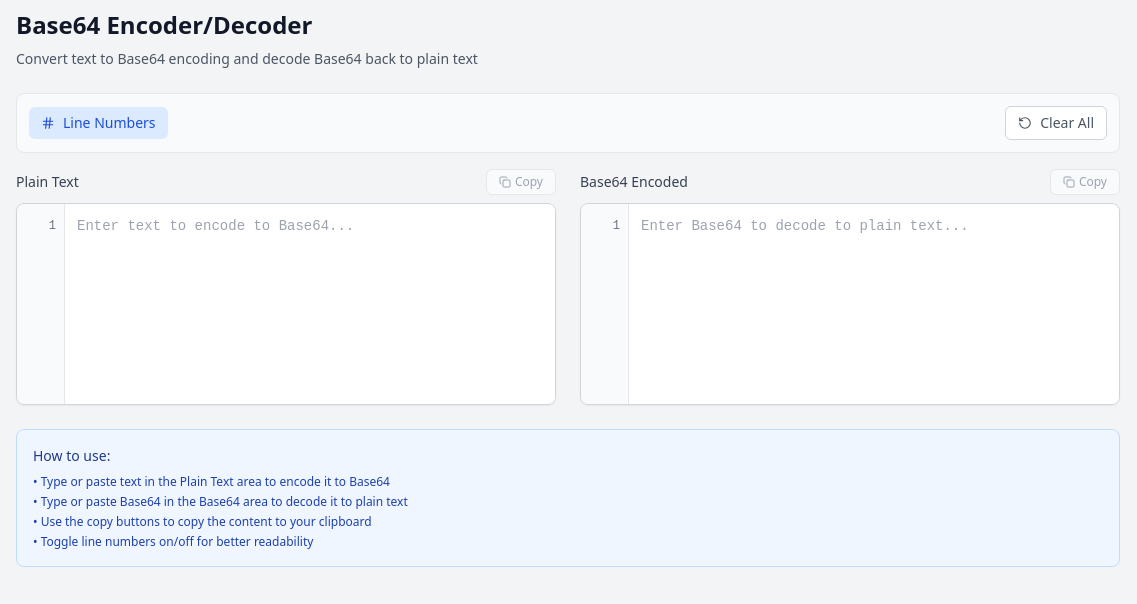
Base64SideBySide › clears both fields and errors when Clear All is clicked
In the text box labelled "Plain Text": point(310, 304) [65,204,555,404], type "hello"
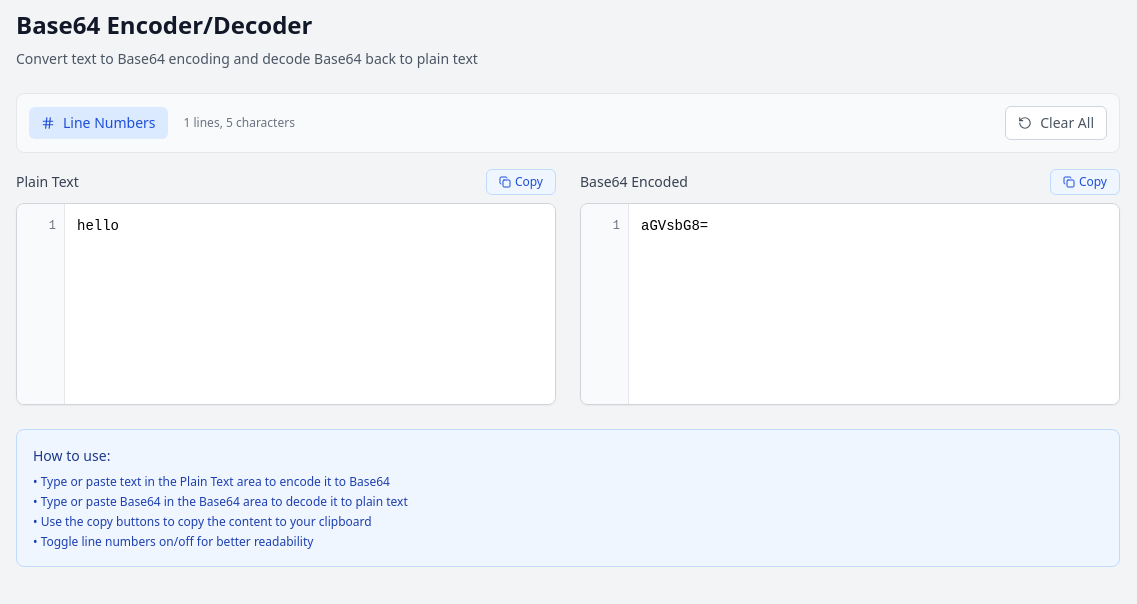
Replace the text in the text box labelled "Base64 Encoded" with "!!!": point(874, 304) [629,204,1119,404]
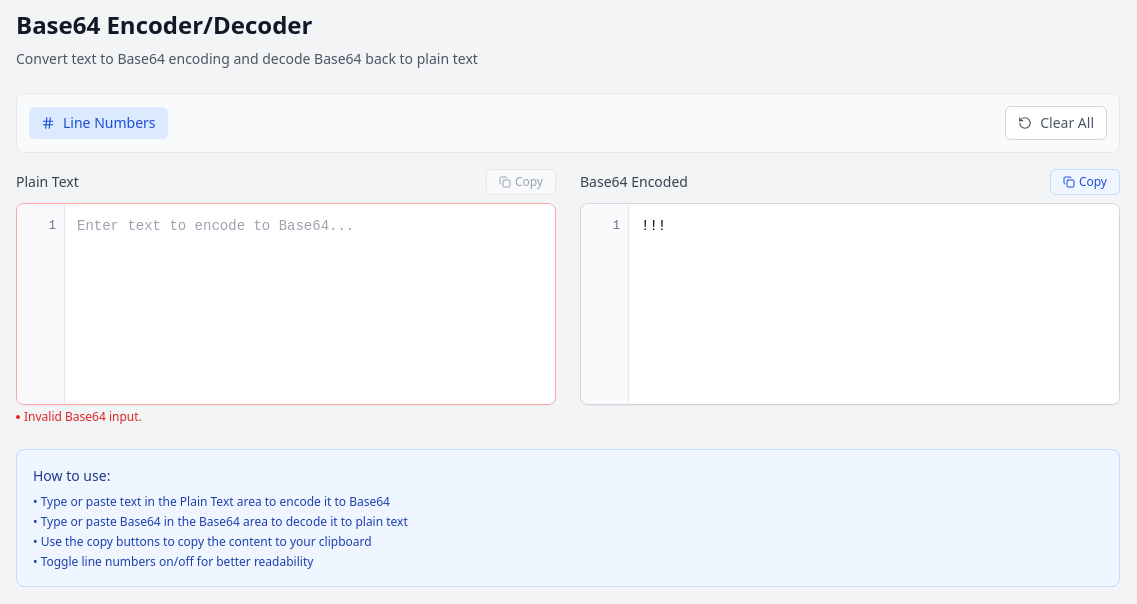
Click the button "Clear All": point(1056, 123) [1005,106,1107,140]
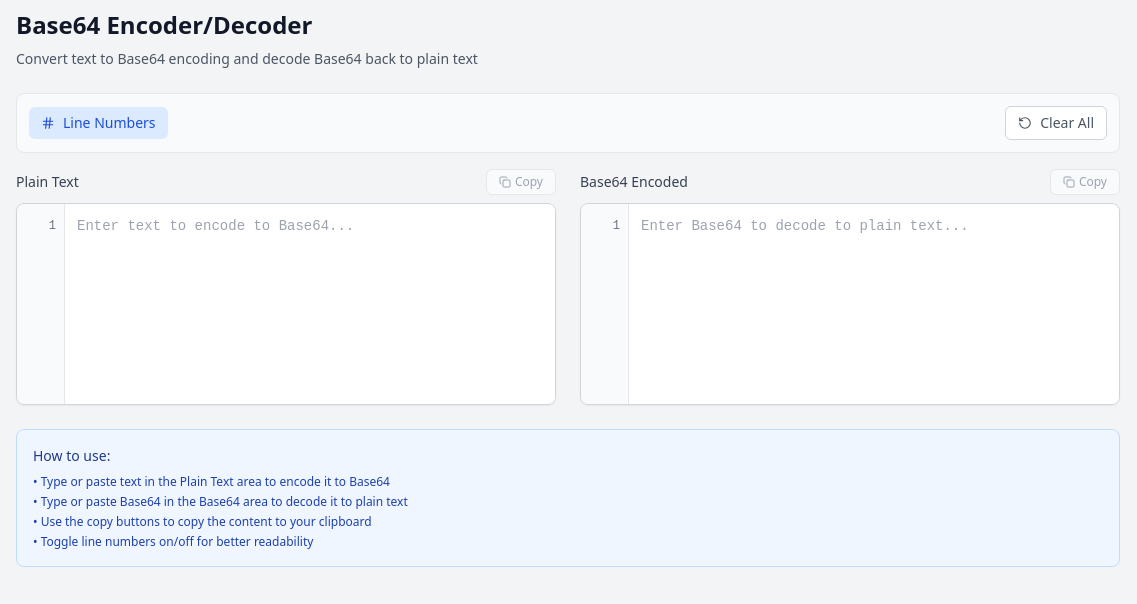
Expected: the text box labelled "Plain Text" is empty, [65,204,555,404]
Expected: the text box labelled "Base64 Encoded" is empty, [629,204,1119,404]
Expected: the text "Invalid Base64" is gone
